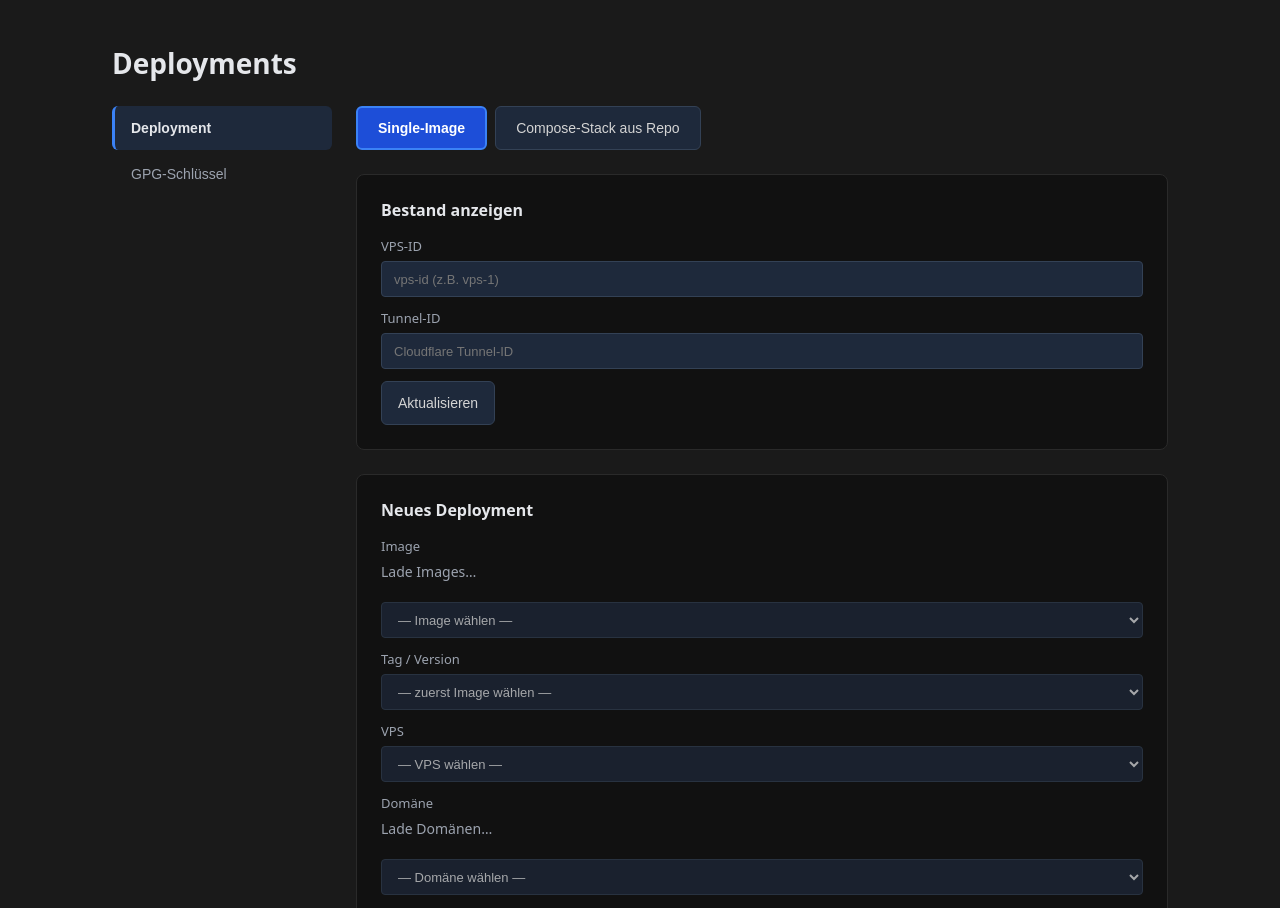
Test: DeploymentsView — AC12: Stack-Undeploy type-to-confirm › renders "Stack entfernen" section after selecting a stack
This screenshot has width=1280, height=908.
Click the button "Compose-Stack aus Repo".
click(598, 128)  # box [495,106,700,150]
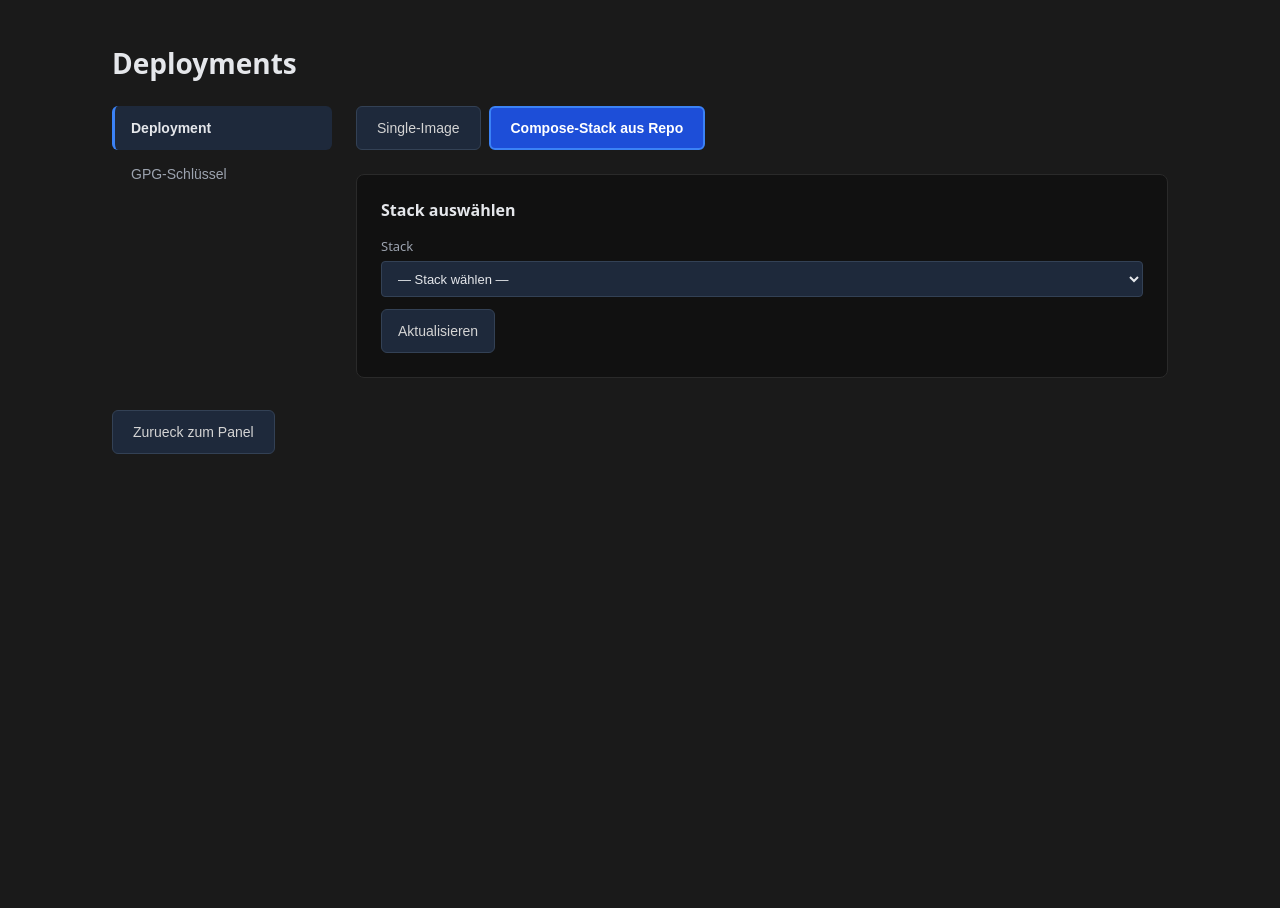
Expected: the dropdown named "Compose-Stack auswählen" is shown
Select "myapp" in the dropdown named "Compose-Stack auswählen" at (762, 279), box [381,261,1143,297]
(page scrolled)
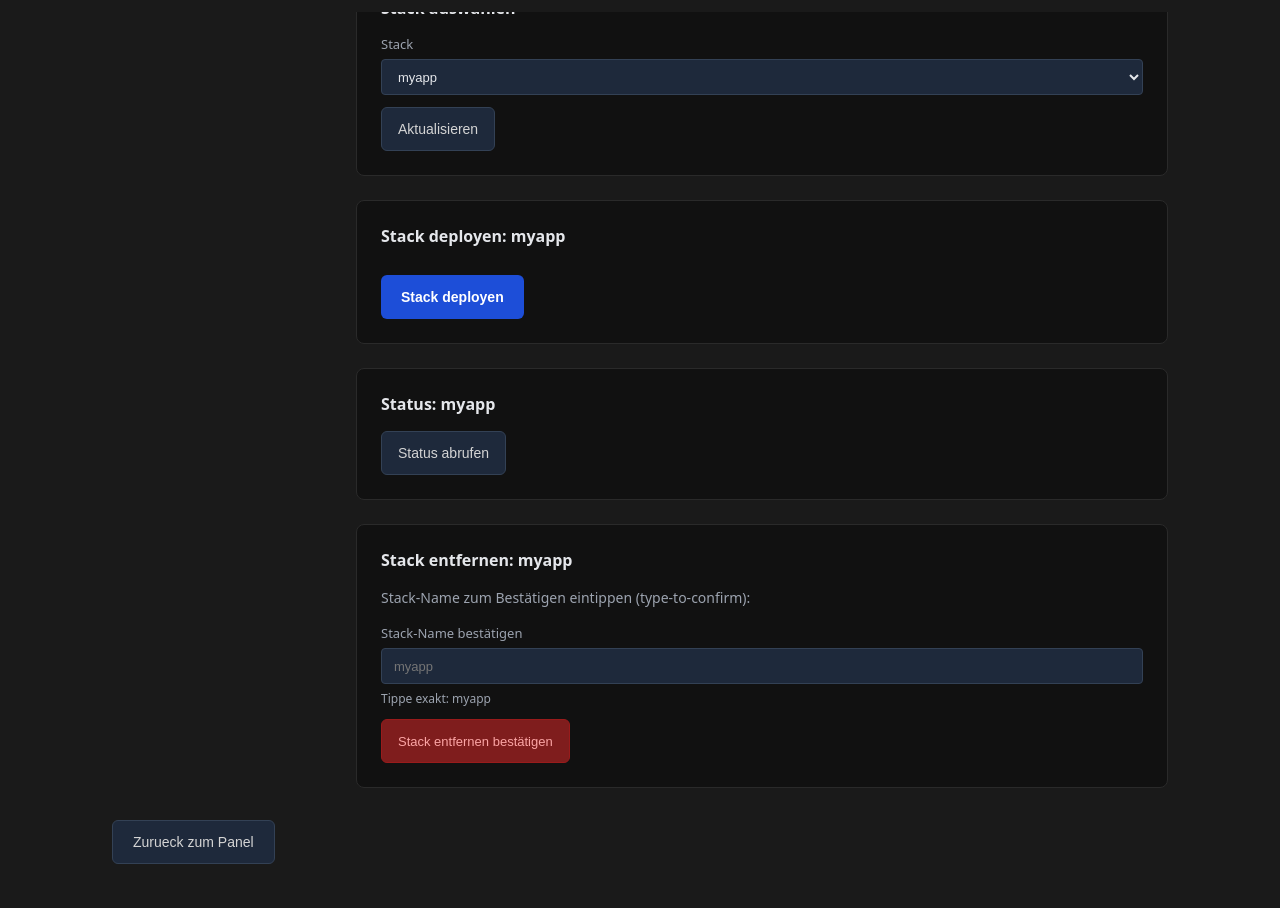
Expected: the element "Stack entfernen" is shown, [356,524,1168,788]
